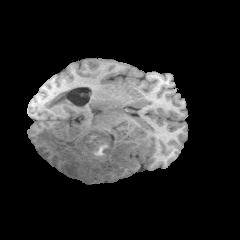glioma: (37, 120, 148, 183)
